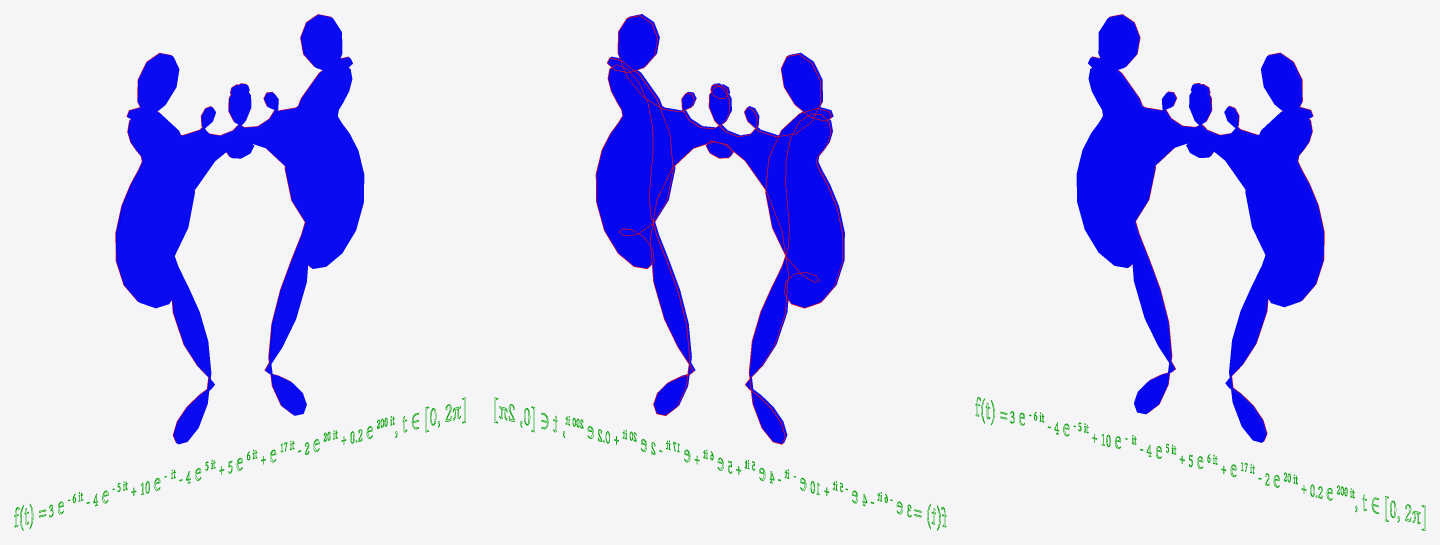
Rendered from SimpleBeauty71.glb.
3 renders of one model, left to right at view 1: azimuth 30°, elevation 25°; view 2: azimuth 150°, elevation 25°; view 3: azimuth 330°, elevation 25°, orthographic.
Size of the model in its own units: 1.2 by 1.13 by 0.0109.
